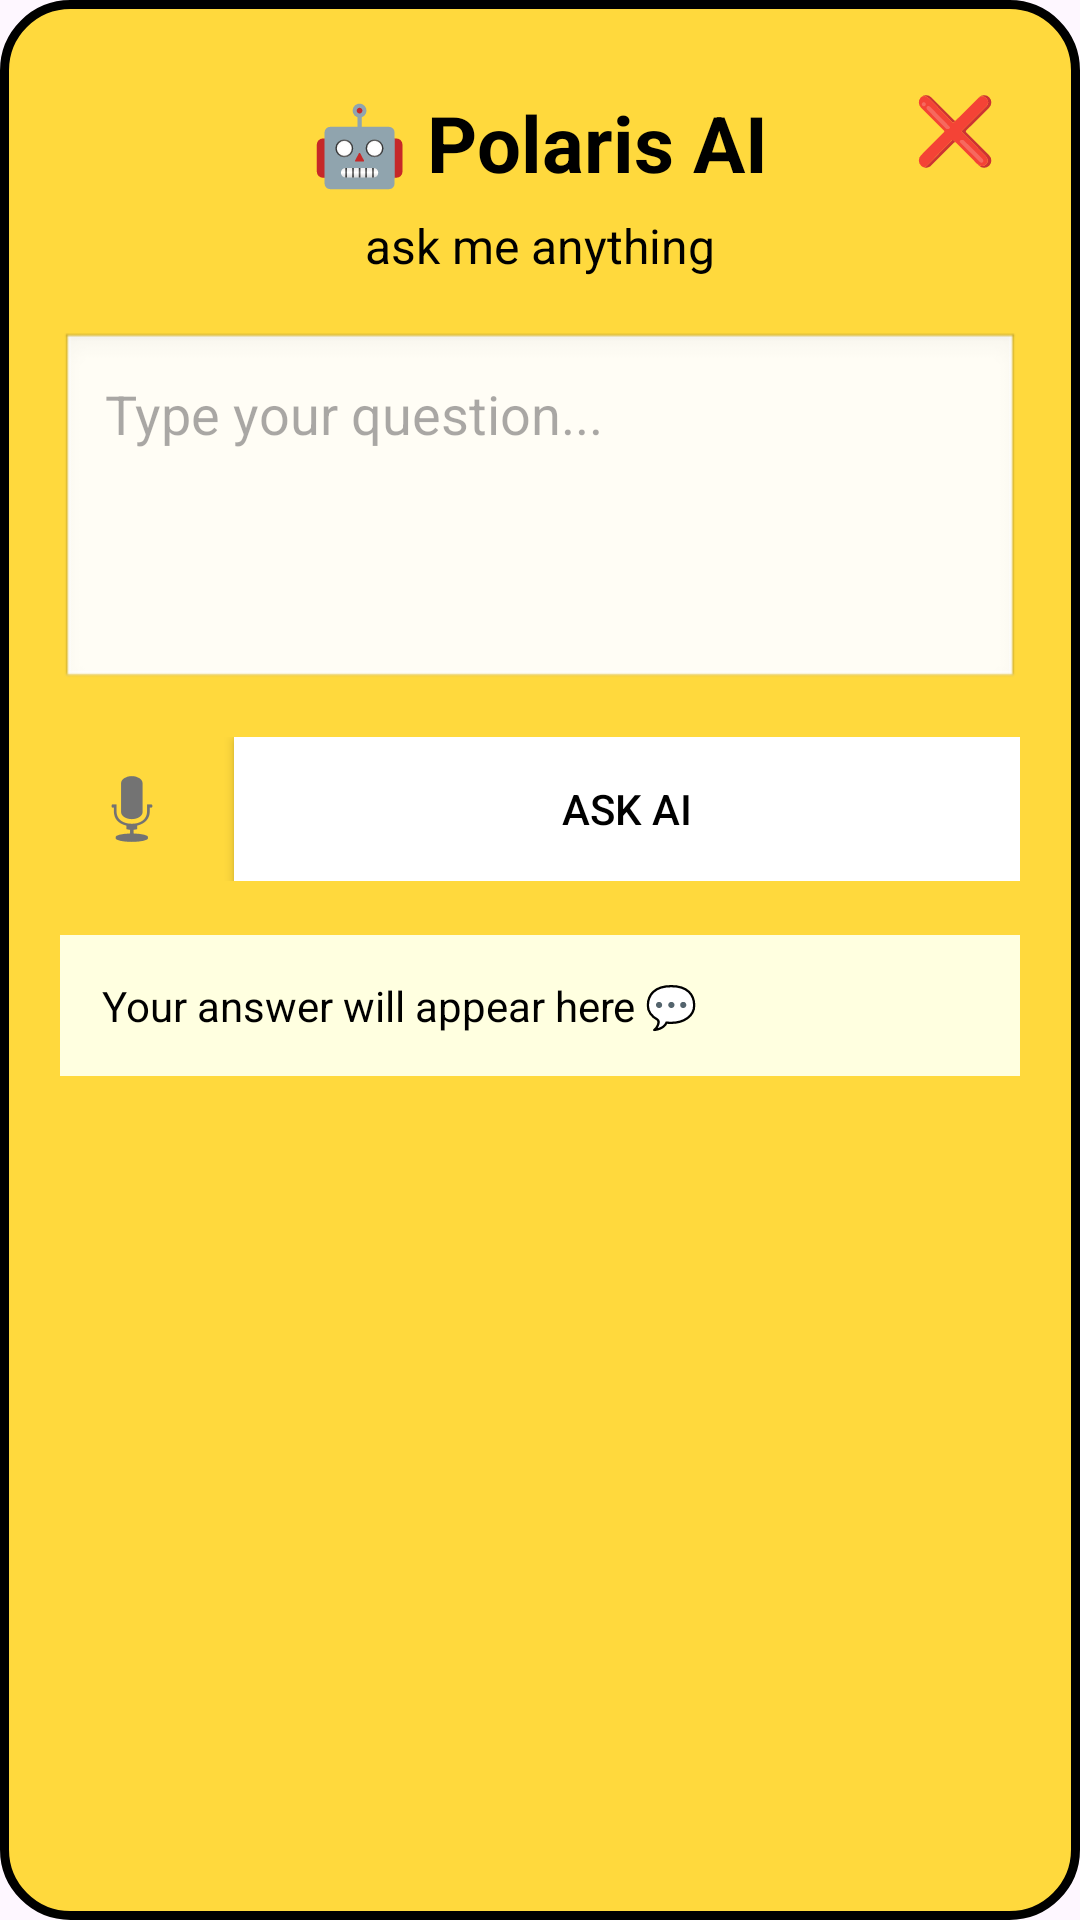

Screen size 1080px×1920px. Icon name, then its center in pixels as (x,y):
Mic: (132,809)
